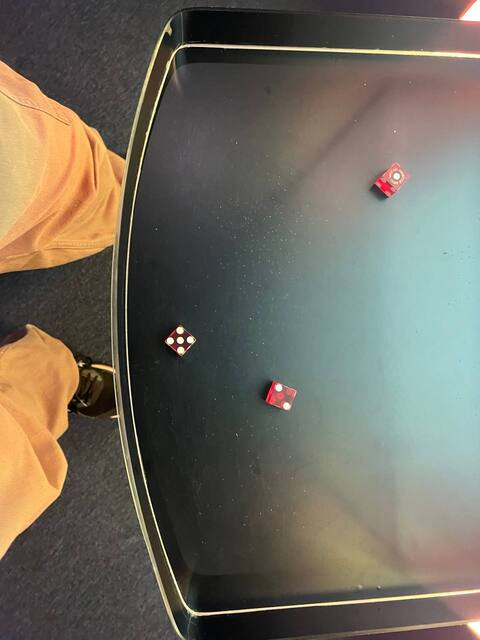five: (161, 323, 200, 359)
one: (377, 159, 412, 192)
two: (261, 377, 301, 412)
